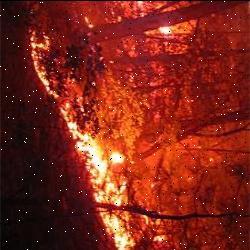fire: (19, 23, 161, 250)
